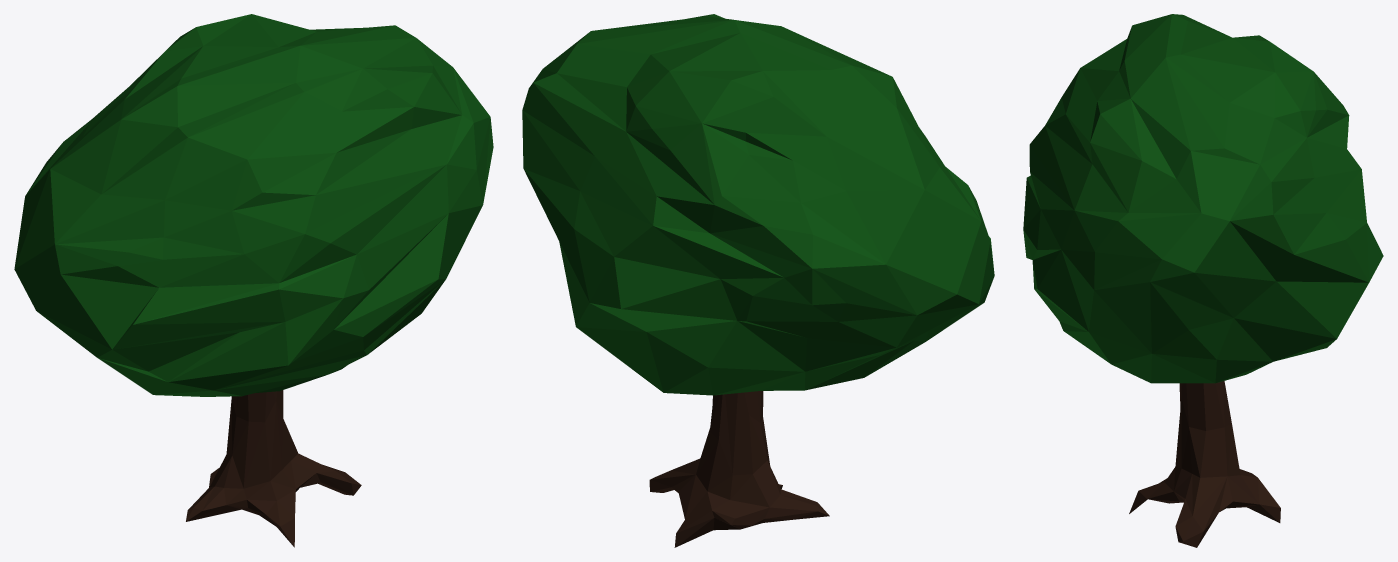
Rendered from SM_tree_05.fbx.
3 renders of one model, left to right at view 1: azimuth 30°, elevation 25°; view 2: azimuth 150°, elevation 25°; view 3: azimuth 270°, elevation 25°, orthographic. The views are drawn at different scales.
Visible parts, largest first — view 1: tree_05; view 2: tree_05; view 3: tree_05.
Part boxes in pixels (box(x1,y1,x2,y2)): tree_05: box(14, 14, 493, 547); tree_05: box(522, 14, 994, 547); tree_05: box(1023, 14, 1383, 547).
Size of the model in its own units: 757 by 786 by 548.
